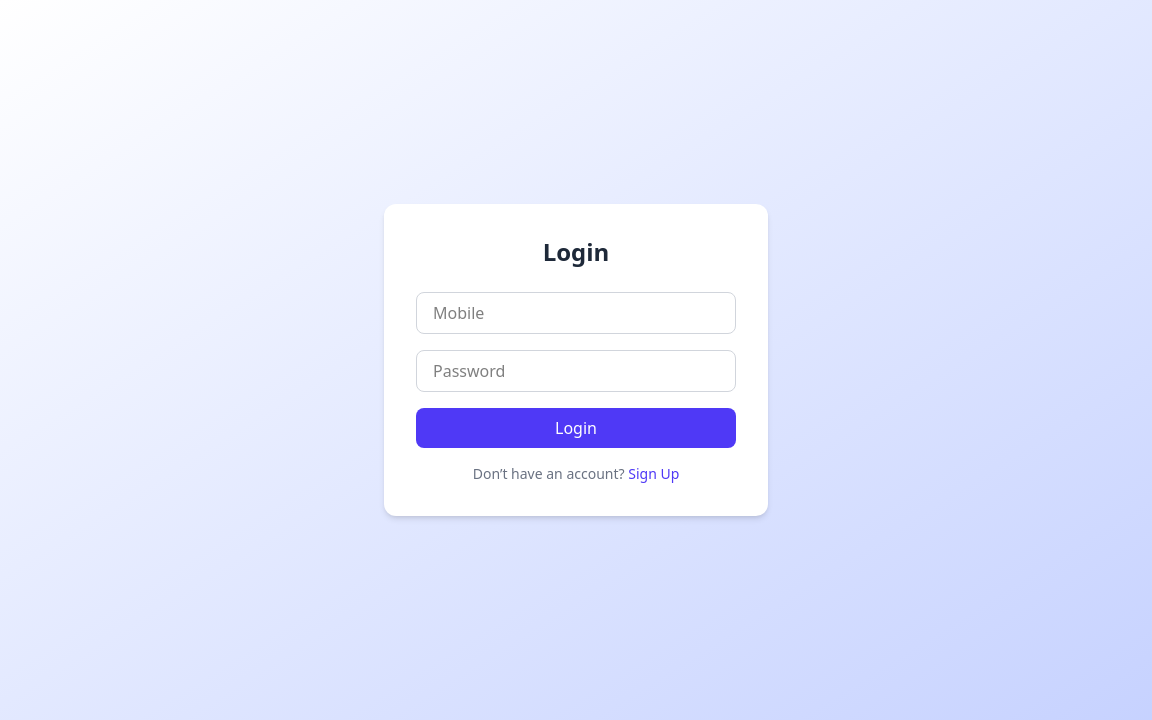
Login Page › should display error message on login failure
Type "1234567890" into the field with placeholder "Mobile".
click(576, 313); type("1234567890")  # box [416,292,736,334]
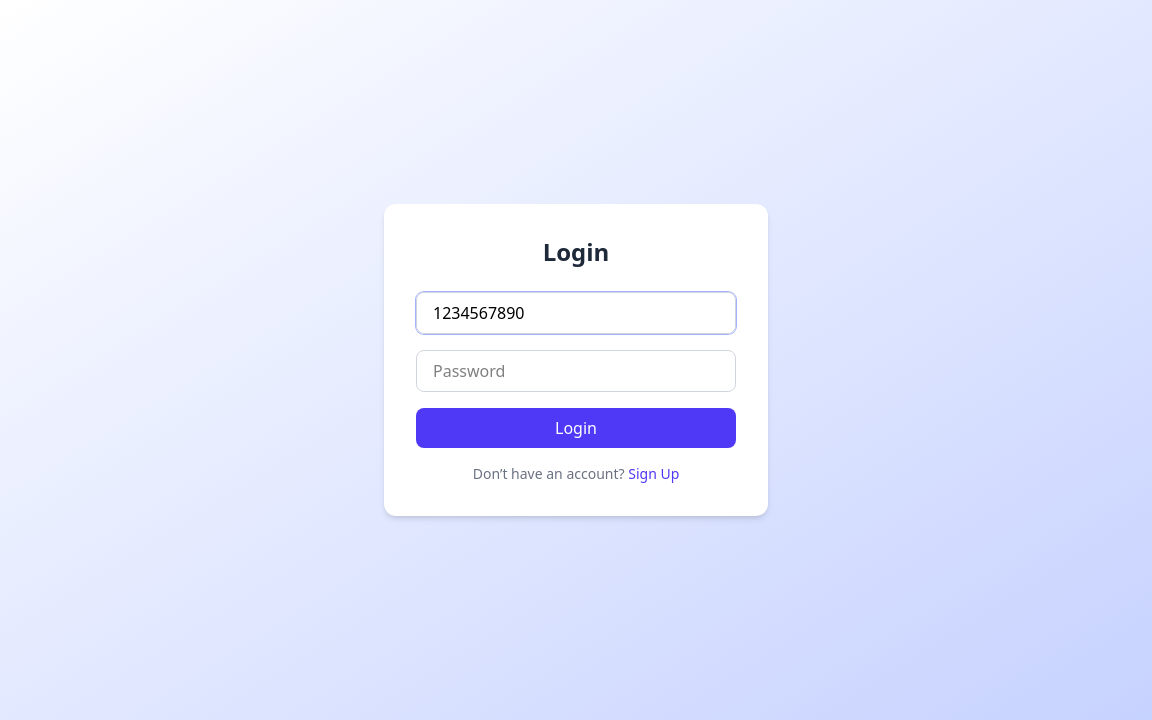
Type "wrongpassword" into the password field with placeholder "Password".
click(576, 371); type("wrongpassword")  # box [416,350,736,392]
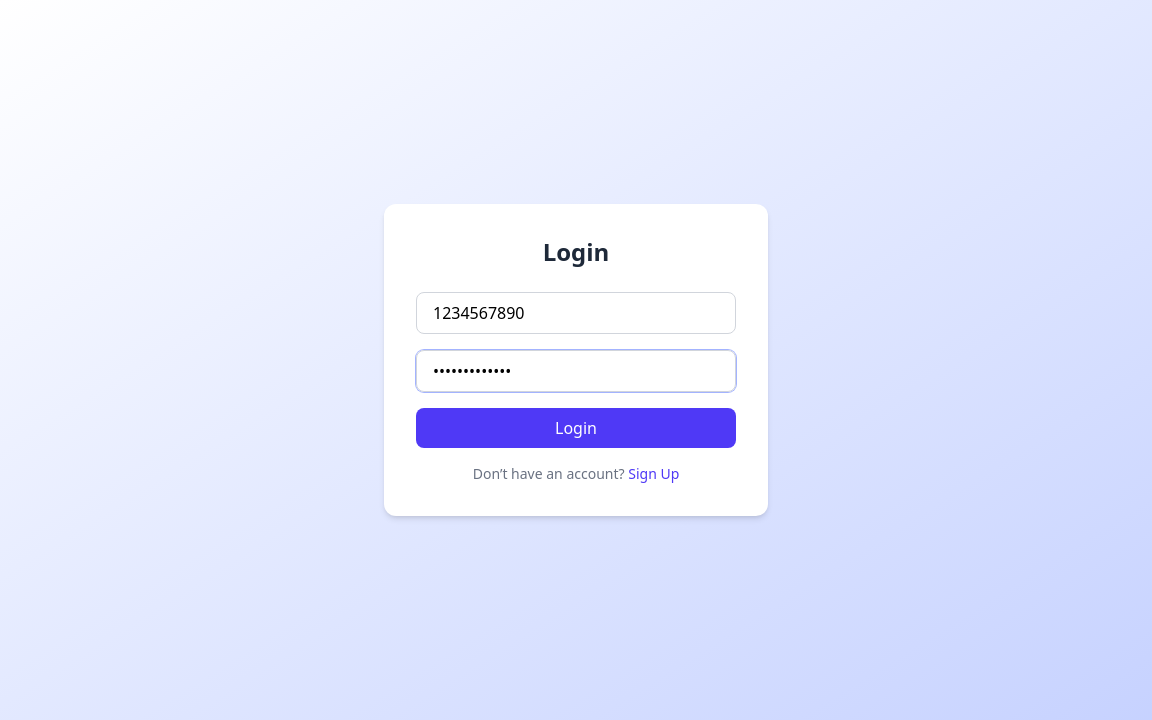
Click the button "Login".
click(576, 428)  # box [416,408,736,448]
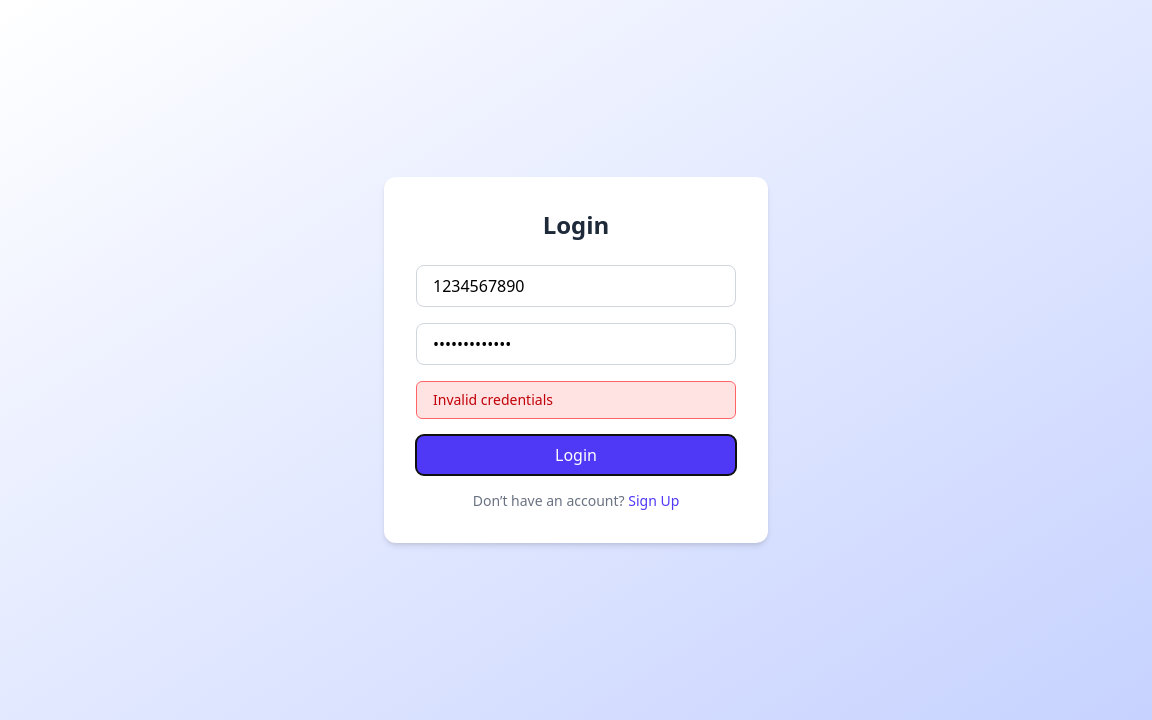
expect the text "Invalid credentials" is shown: met, box [416,381,736,419]
